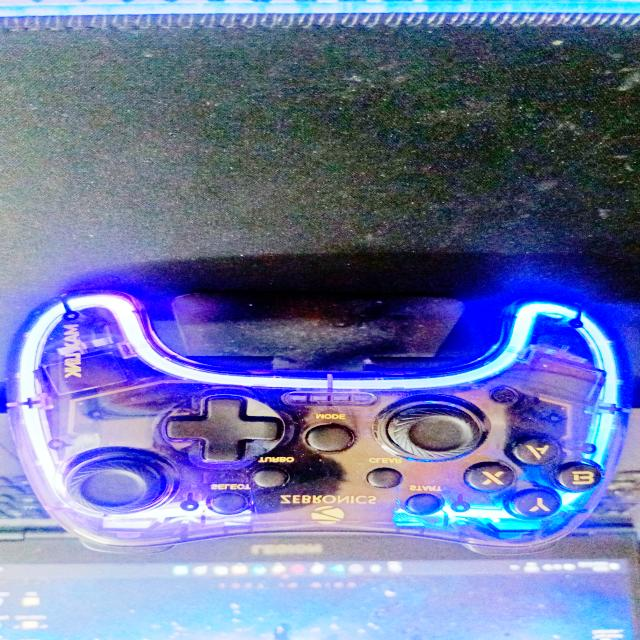gamepad: (4, 288, 633, 556)
